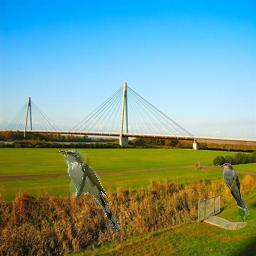Cuckoo: (58, 149, 120, 231), (218, 163, 250, 223)
